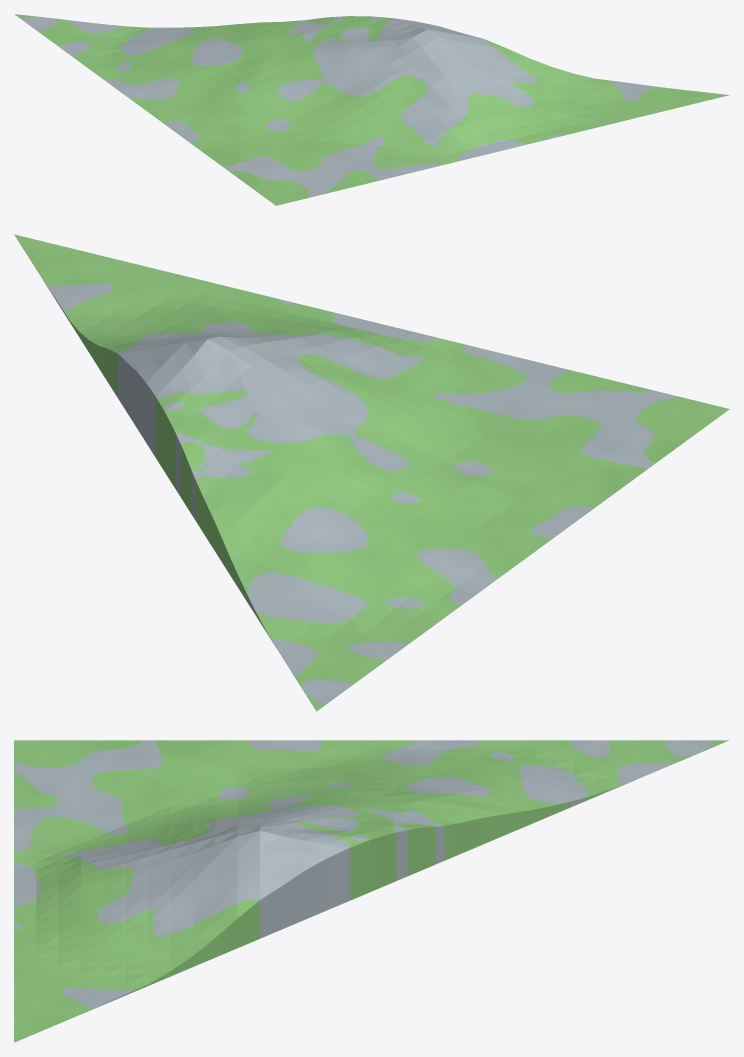
File: Grass_RockyGround_03_NW.obj
The picture shows the model from 3 angles, top to bottom: view 1: azimuth 30°, elevation 25°; view 2: azimuth 150°, elevation 25°; view 3: azimuth 270°, elevation 25°; orthographic projection. The views are drawn at different scales.
Bounding box in the file's own units: 10 × 1.08 × 10.
1 material, 1 textured.
